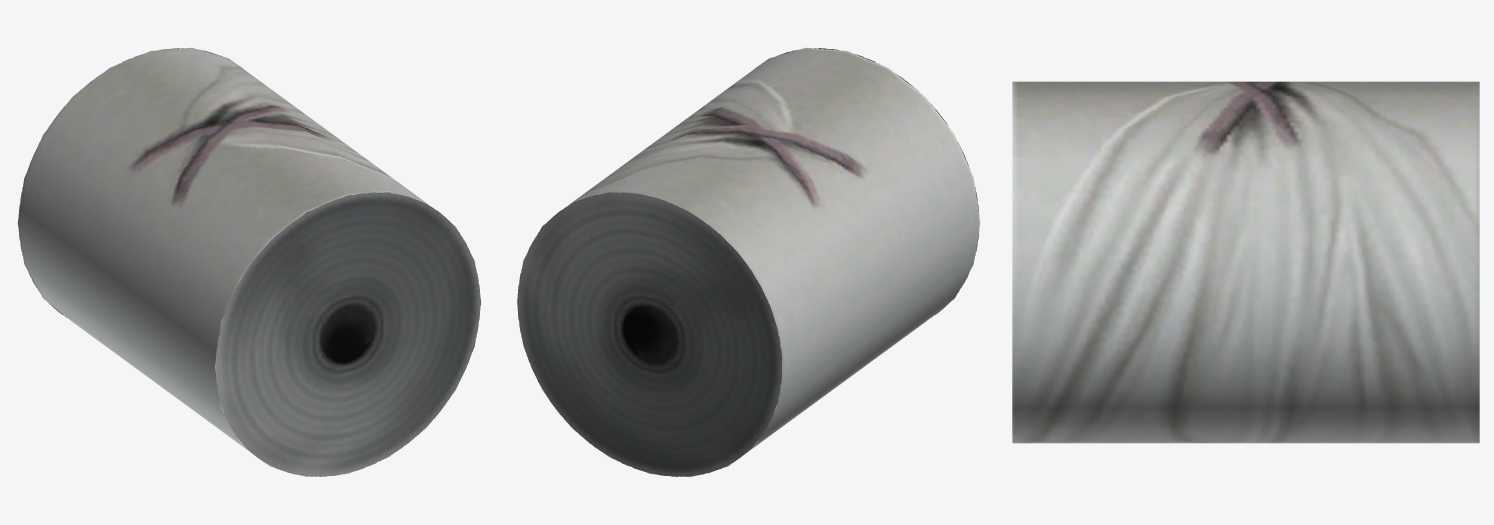
Rendered from paper_laydown02.fbx.
The picture shows the model from 3 angles, left to right: view 1: azimuth 30°, elevation 25°; view 2: azimuth 150°, elevation 25°; view 3: azimuth 270°, elevation 25°; orthographic projection. The views are drawn at different scales.
Parts seen in each view (by area): view 1: mesh_1, mesh_0; view 2: mesh_1, mesh_0; view 3: mesh_1.
Boxes of the visible parts, box(x1,y1,x2,y2) form: mesh_1: box(17, 47, 481, 477); mesh_0: box(18, 48, 480, 476); mesh_1: box(516, 47, 980, 477); mesh_0: box(517, 48, 979, 476); mesh_1: box(1012, 81, 1479, 443).
Bounding box in the file's own units: 200 × 200 × 250.
2 materials, 2 textured.
